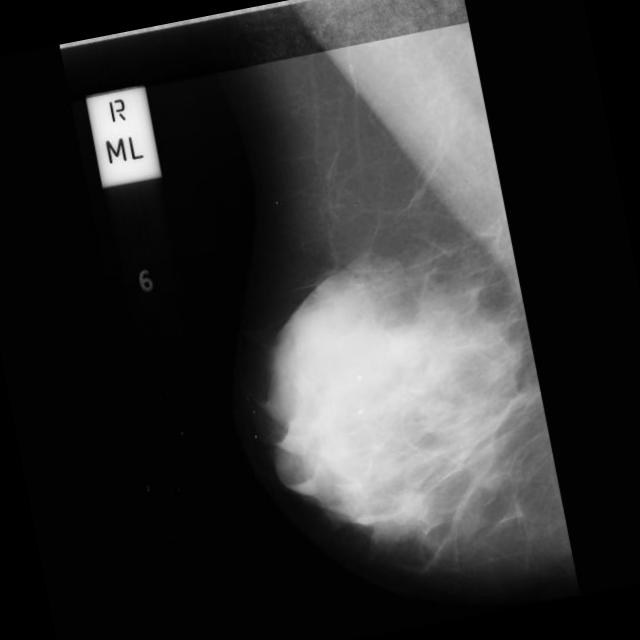CIRC: (292, 413, 392, 514)
